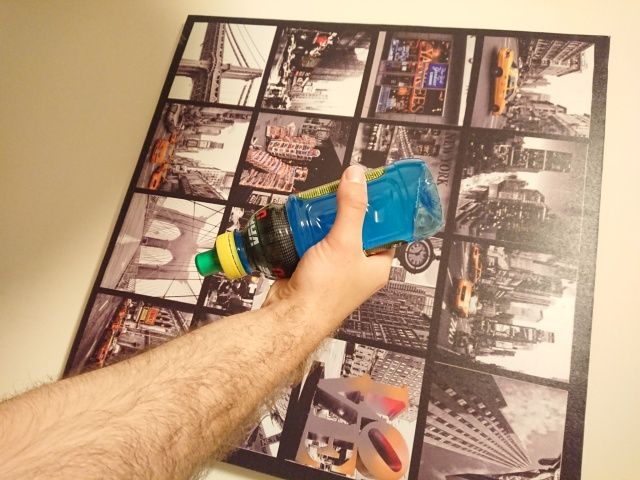Vindi Iso Sport Forest Strawberries 500mL: (193, 155, 446, 283)
